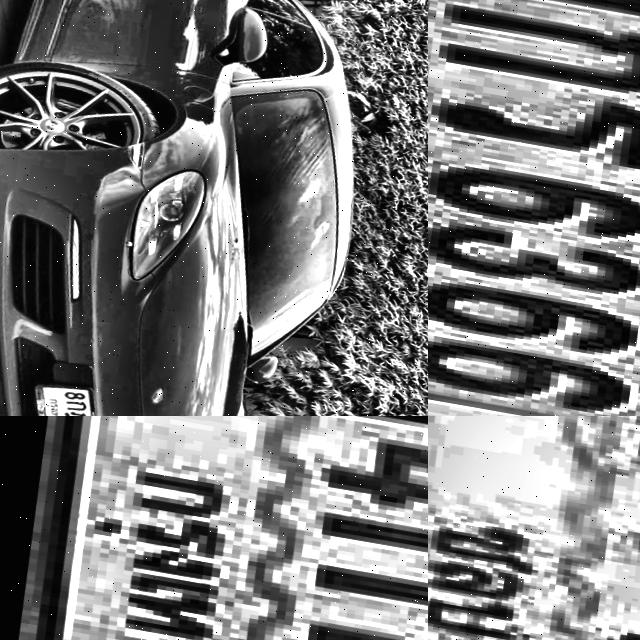license-plate: (0, 416, 428, 640), (428, 0, 640, 416), (428, 416, 640, 640), (7, 366, 109, 416)
